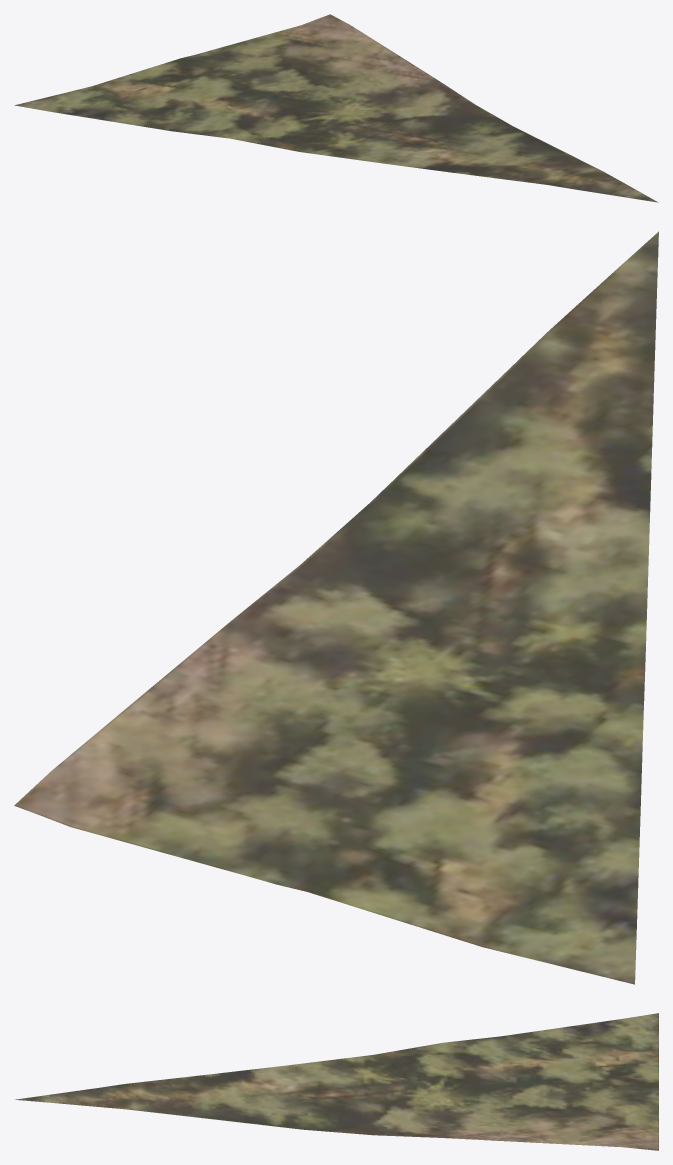
The model's file is CM_Terrain_24490254_6816722.fbx.
3 views of the same model, one above another, from view 1: azimuth 30°, elevation 25°; view 2: azimuth 150°, elevation 25°; view 3: azimuth 270°, elevation 25° (orthographic). The views are drawn at different scales.
Visible parts, largest first — view 1: CM_Terrain_24490254_6816722_LOD0; view 2: CM_Terrain_24490254_6816722_LOD0; view 3: CM_Terrain_24490254_6816722_LOD0.
Boxes of the visible parts, x1,y1,x2,y2 form: CM_Terrain_24490254_6816722_LOD0: [14, 14, 658, 202]; CM_Terrain_24490254_6816722_LOD0: [14, 231, 658, 984]; CM_Terrain_24490254_6816722_LOD0: [15, 1013, 658, 1150].
Size of what is drawn, in the model's own units: 21.65 by 4.32 by 38.95.
